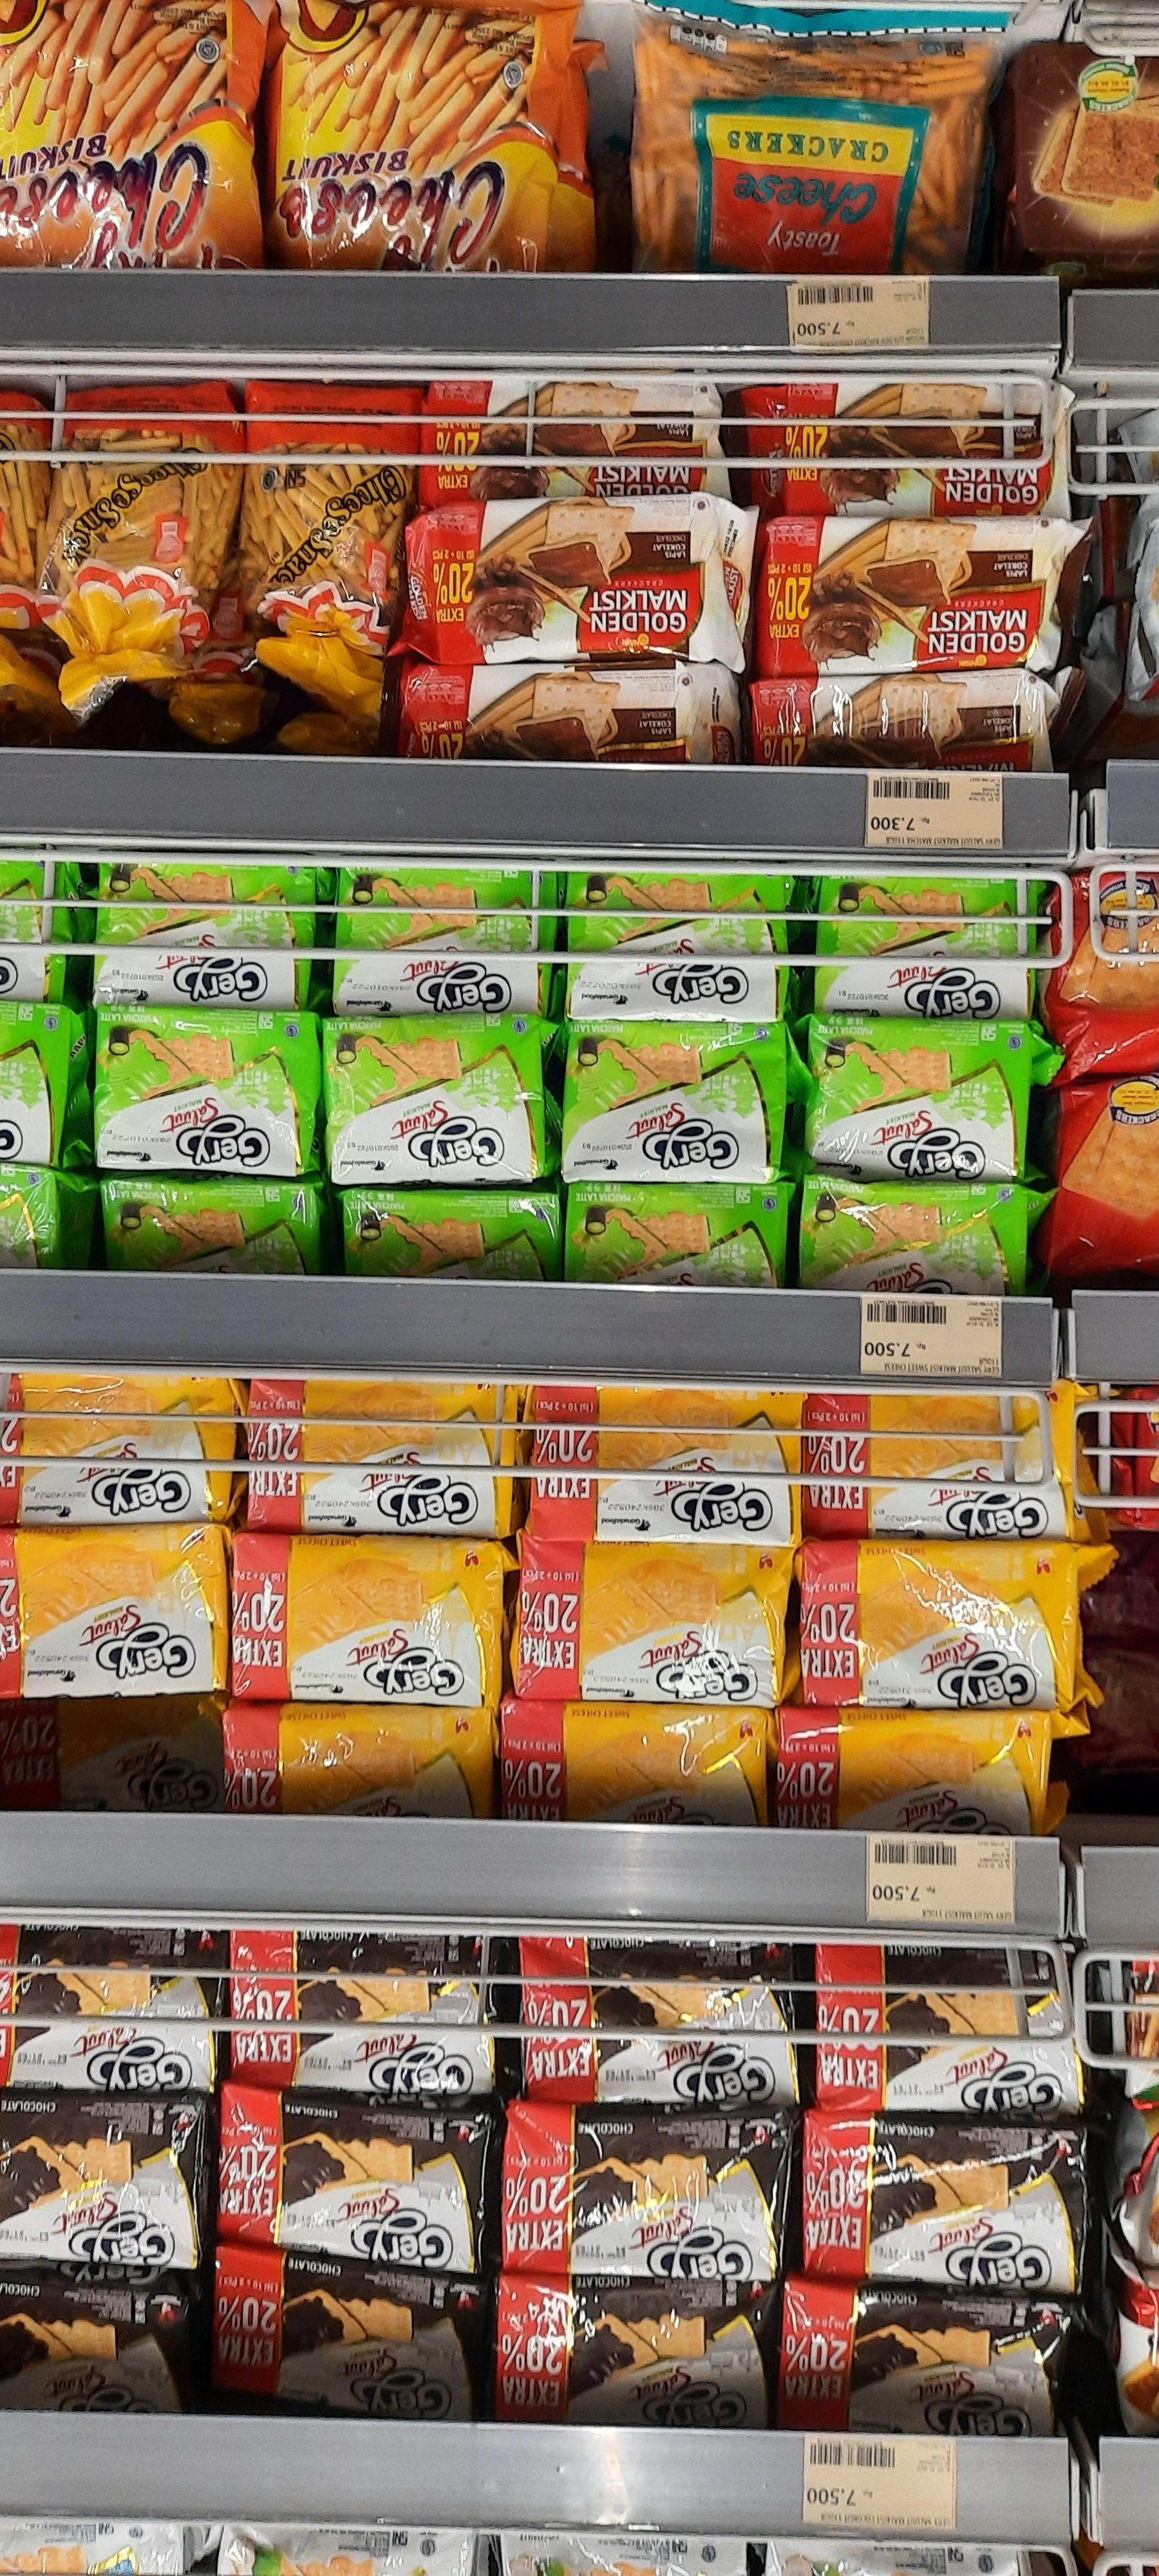90101225202100: (212, 2086, 494, 2265), (519, 1920, 801, 2100), (223, 1922, 506, 2100), (790, 2113, 1072, 2290), (497, 2103, 780, 2280), (806, 1930, 1087, 2108), (215, 2257, 502, 2415), (509, 2280, 786, 2430), (796, 2282, 1070, 2433), (0, 2095, 210, 2275), (0, 1935, 225, 2100), (0, 2270, 210, 2410)
90101225205100: (515, 1538, 783, 1699), (816, 1393, 1083, 1554), (250, 1364, 517, 1523), (534, 1382, 801, 1541), (227, 1534, 494, 1694), (801, 1544, 1067, 1704), (0, 1364, 236, 1528), (0, 1533, 222, 1695), (497, 1695, 770, 1825), (225, 1692, 491, 1822), (778, 1713, 1061, 1833), (2, 1694, 222, 1810)
90101225212100: (87, 1017, 307, 1184), (563, 1025, 783, 1193), (571, 867, 791, 1035), (85, 839, 305, 1007), (811, 856, 1031, 1022), (325, 856, 545, 1022), (813, 1023, 1031, 1189), (317, 1020, 535, 1186), (814, 1194, 1036, 1296)
CheeseBiskuit: (277, 0, 550, 278), (0, 0, 273, 278)
CheeseSnack: (54, 394, 230, 680), (228, 391, 402, 677)
NissinGoldenMalkistChocolate: (747, 513, 1082, 683), (410, 496, 744, 665), (742, 373, 1067, 513), (415, 366, 727, 498)
ToastyCheeseCrackers: (634, 3, 993, 269)
